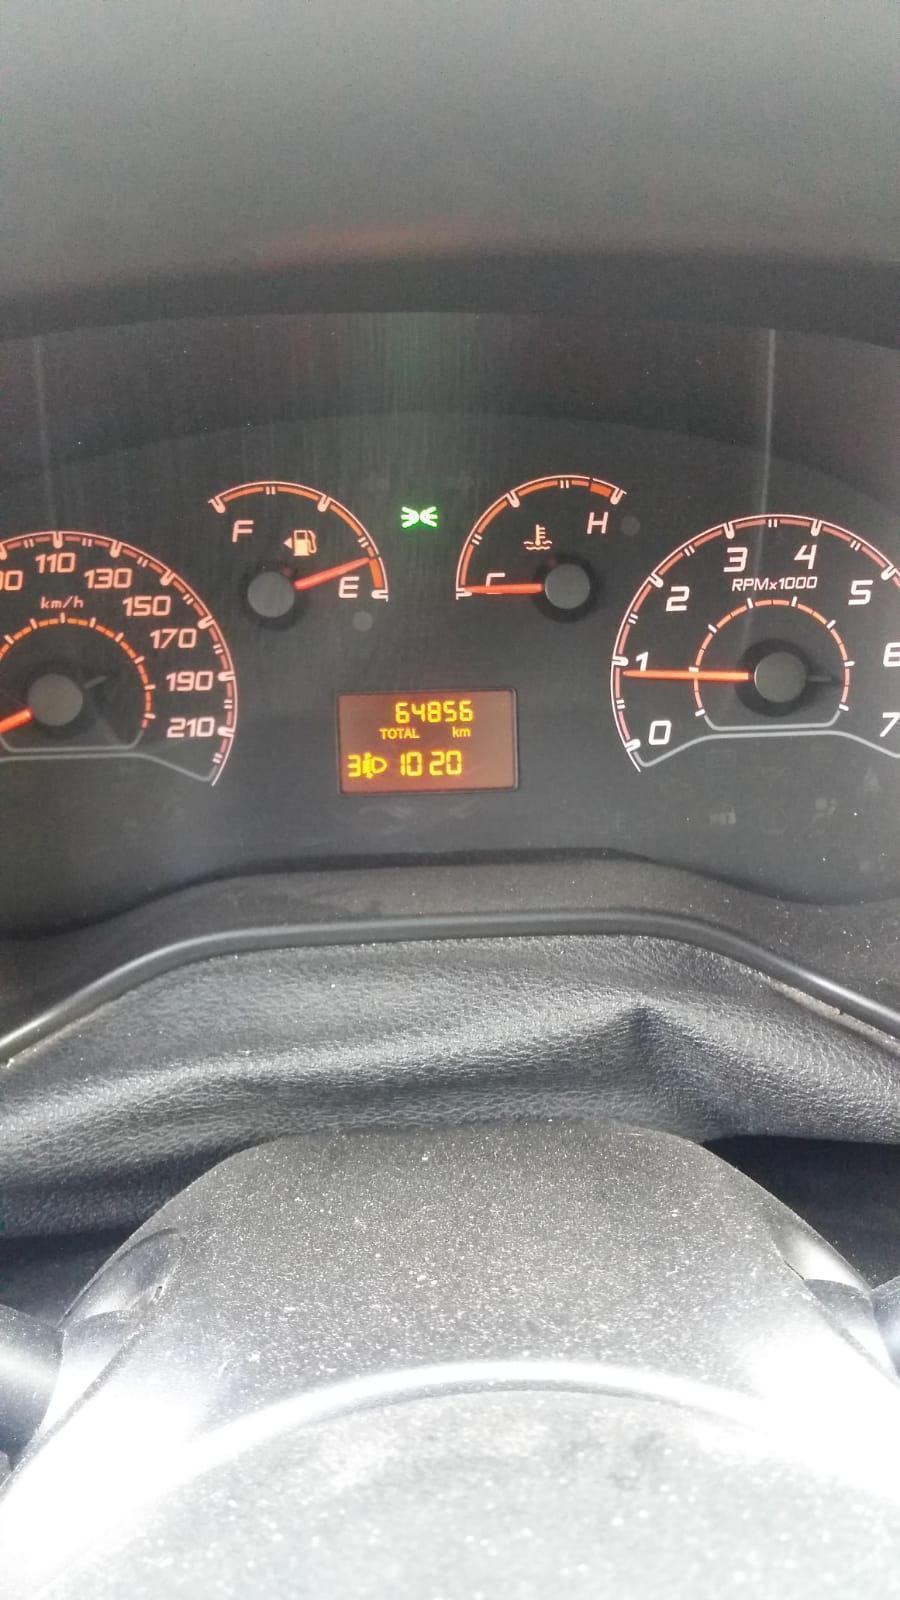0: (405, 749, 423, 777), (445, 749, 462, 776)
1: (398, 753, 405, 776)
2: (427, 749, 445, 776)
3: (345, 753, 362, 778)
4: (410, 702, 426, 721)
5: (443, 700, 457, 722)
6: (395, 701, 410, 724), (458, 699, 473, 721)
8: (426, 701, 442, 722)
X: (459, 727, 471, 738), (387, 727, 397, 740), (378, 727, 387, 740), (451, 726, 459, 738), (403, 727, 412, 738), (411, 727, 420, 738), (397, 727, 404, 740)
odometer: (334, 686, 520, 796)
